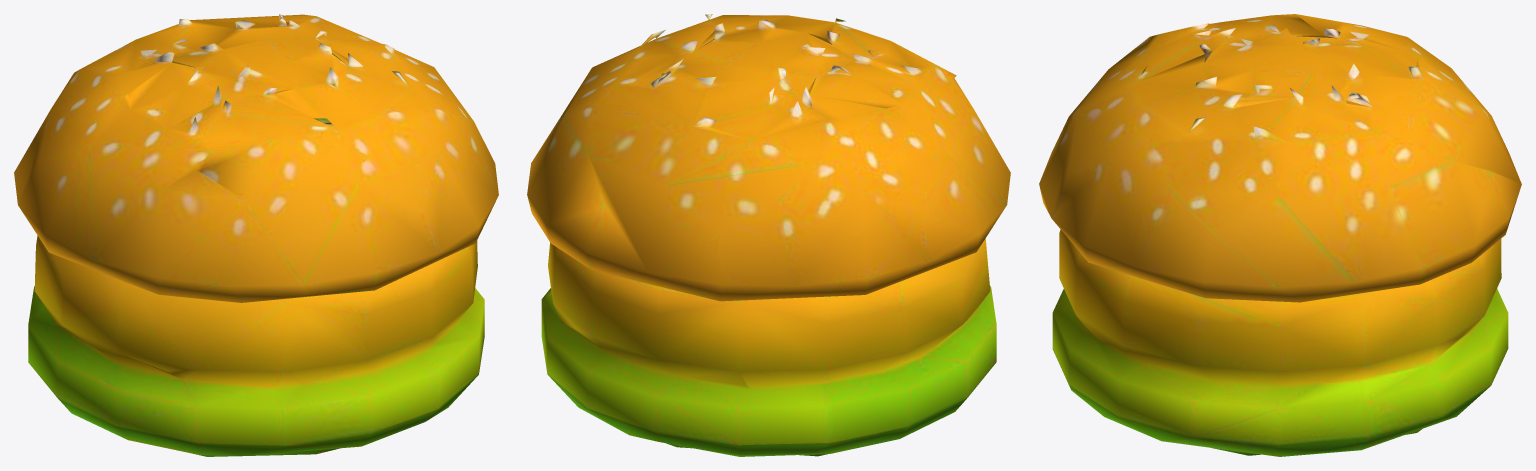
File: bun.glb
The picture shows the model from 3 angles, left to right: view 1: azimuth 30°, elevation 25°; view 2: azimuth 150°, elevation 25°; view 3: azimuth 270°, elevation 25°; orthographic projection.
Size of the model in its own units: 1.91 by 1.43 by 1.91.
Materials: 1 (1 with a texture image).
